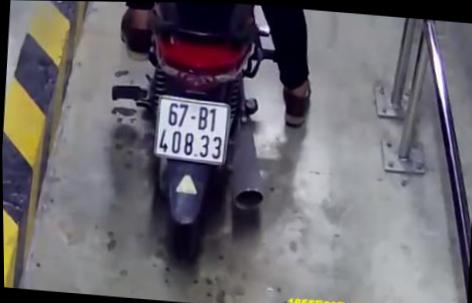LP: (153, 92, 231, 165)
